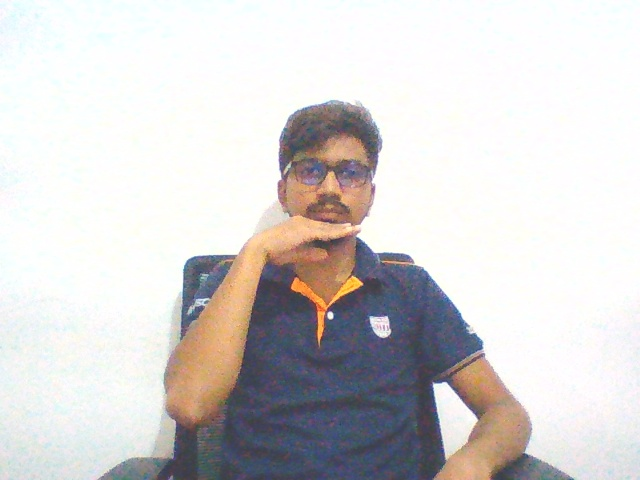elephant: (239, 213, 368, 275)
